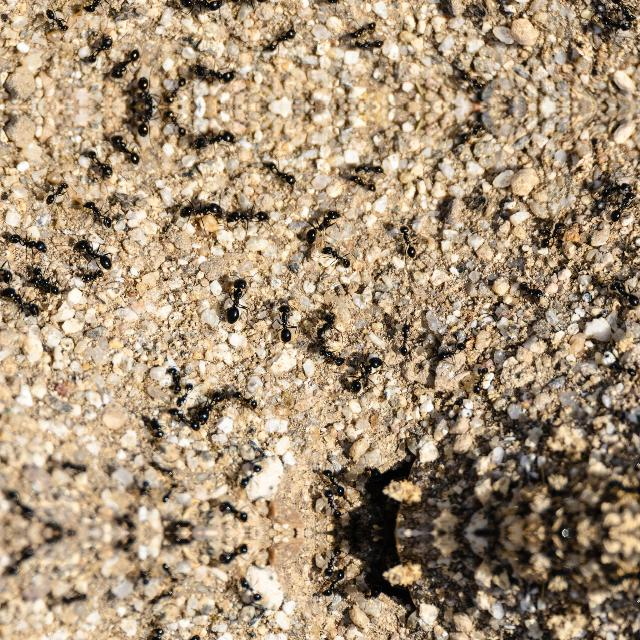Messor: (299, 204, 343, 250), (69, 234, 117, 272), (314, 240, 362, 276), (0, 281, 44, 320), (222, 270, 250, 328), (178, 191, 224, 225), (350, 355, 386, 393), (272, 298, 298, 348), (223, 204, 273, 230), (195, 387, 225, 427), (106, 132, 142, 164), (106, 48, 142, 80), (192, 124, 236, 150), (192, 62, 236, 88), (394, 220, 422, 260), (318, 484, 346, 522), (3, 230, 49, 252), (262, 158, 298, 186), (318, 544, 346, 580), (262, 26, 298, 54), (178, 0, 223, 21), (609, 189, 635, 225), (160, 105, 188, 138), (610, 276, 640, 306), (540, 216, 568, 248), (160, 74, 188, 106), (319, 464, 346, 496), (314, 306, 338, 342), (79, 262, 107, 292), (87, 198, 115, 228), (216, 502, 254, 524), (598, 176, 636, 198), (216, 541, 254, 563), (598, 14, 636, 36), (26, 276, 60, 300), (319, 570, 346, 600), (134, 105, 158, 138), (170, 404, 198, 432), (237, 459, 263, 489), (89, 148, 115, 178), (237, 576, 263, 606), (89, 34, 115, 64), (471, 362, 495, 394), (134, 74, 158, 106), (396, 318, 414, 360), (436, 336, 466, 360), (316, 341, 344, 365), (457, 122, 489, 142), (457, 70, 489, 90), (230, 387, 260, 408), (148, 411, 168, 442), (157, 478, 180, 504), (609, 0, 635, 23), (344, 173, 376, 191), (344, 21, 376, 39), (46, 180, 68, 206), (46, 6, 68, 32), (157, 562, 180, 586), (174, 380, 196, 404), (519, 278, 543, 300), (150, 588, 176, 606), (150, 459, 176, 476), (33, 262, 53, 284), (170, 363, 184, 393), (356, 38, 386, 52), (87, 0, 115, 14), (356, 160, 386, 173), (0, 259, 16, 282), (223, 0, 273, 7), (148, 623, 167, 640), (169, 633, 198, 640)
